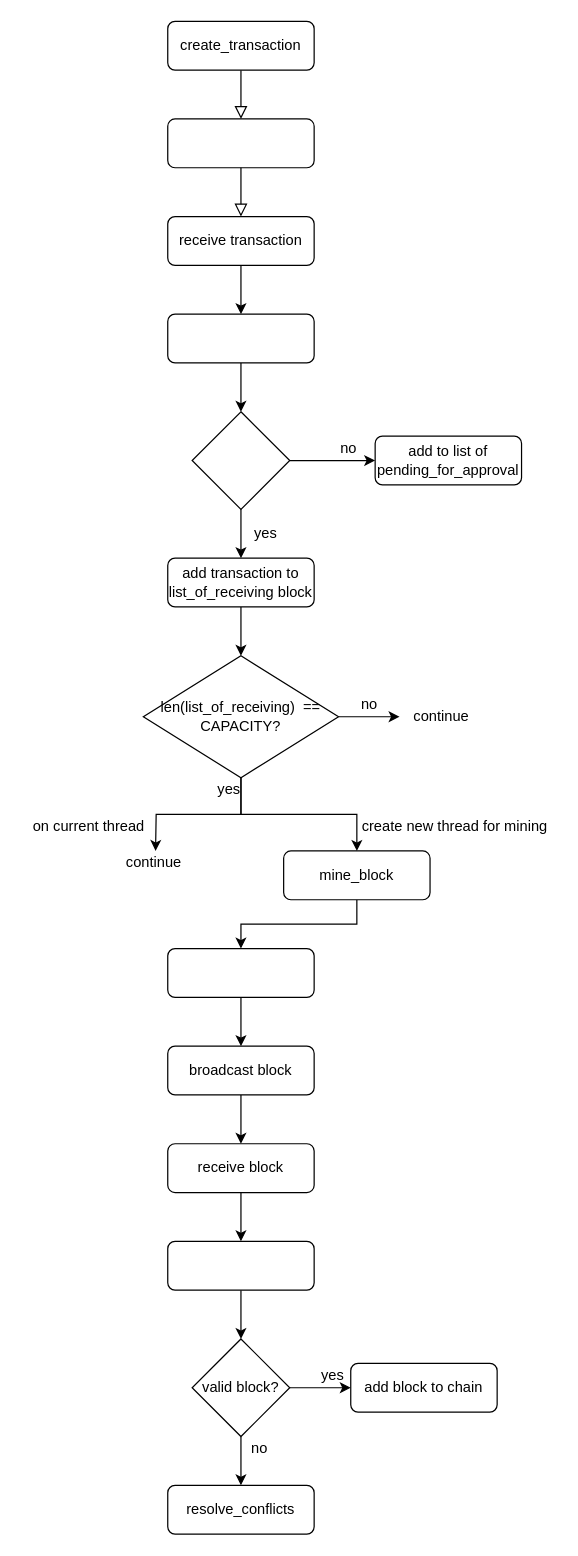
The diagram is 578 pixels wide and 1556 high, and some of its shapes have lost their labels. Each missing label, with the centre of its shape:
add block to my chain: (x=240, y=972)
broadcast transaction: (x=240, y=143)
is it VALID?: (x=240, y=460)
validate block: (x=240, y=1265)
validate transaction: (x=240, y=338)
